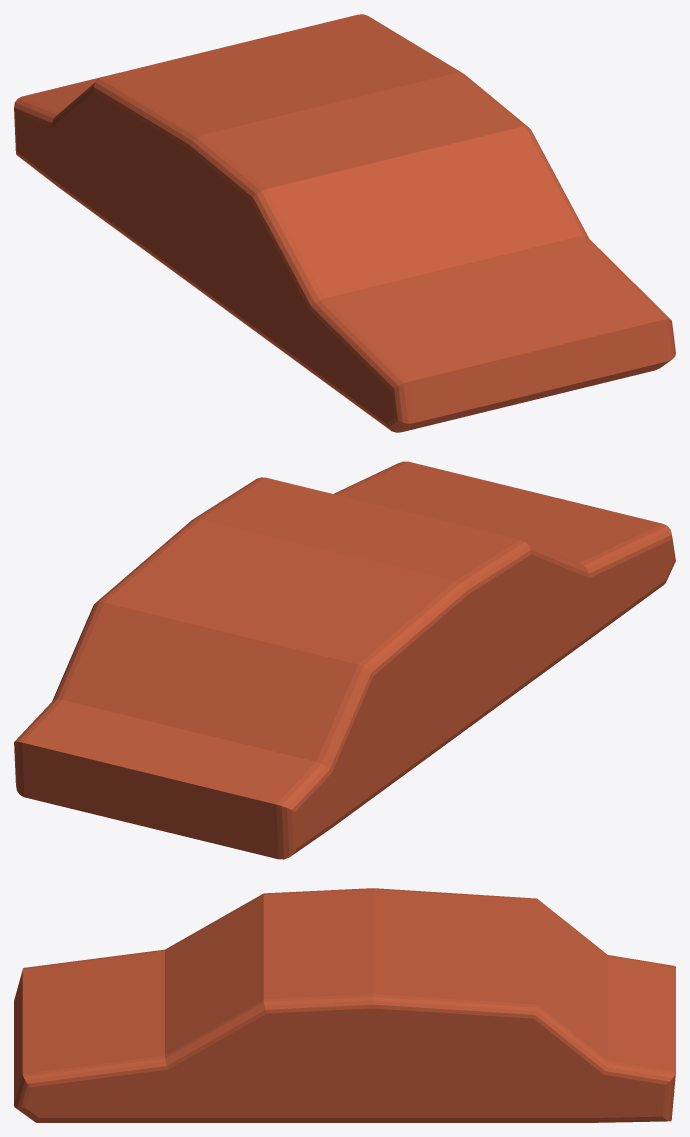
Rendered from car-super.glb.
3 renders of one model, top to bottom at view 1: azimuth 30°, elevation 25°; view 2: azimuth 150°, elevation 25°; view 3: azimuth 270°, elevation 25°, orthographic. The views are drawn at different scales.
Parts seen in each view (by area): view 1: body; view 2: body; view 3: body.
Boxes of the visible parts, <box> form: body: <box>14,14,675,432</box>; body: <box>14,461,675,859</box>; body: <box>14,888,675,1122</box>.
Size of the model in its own units: 1.94 by 1 by 4.71.
